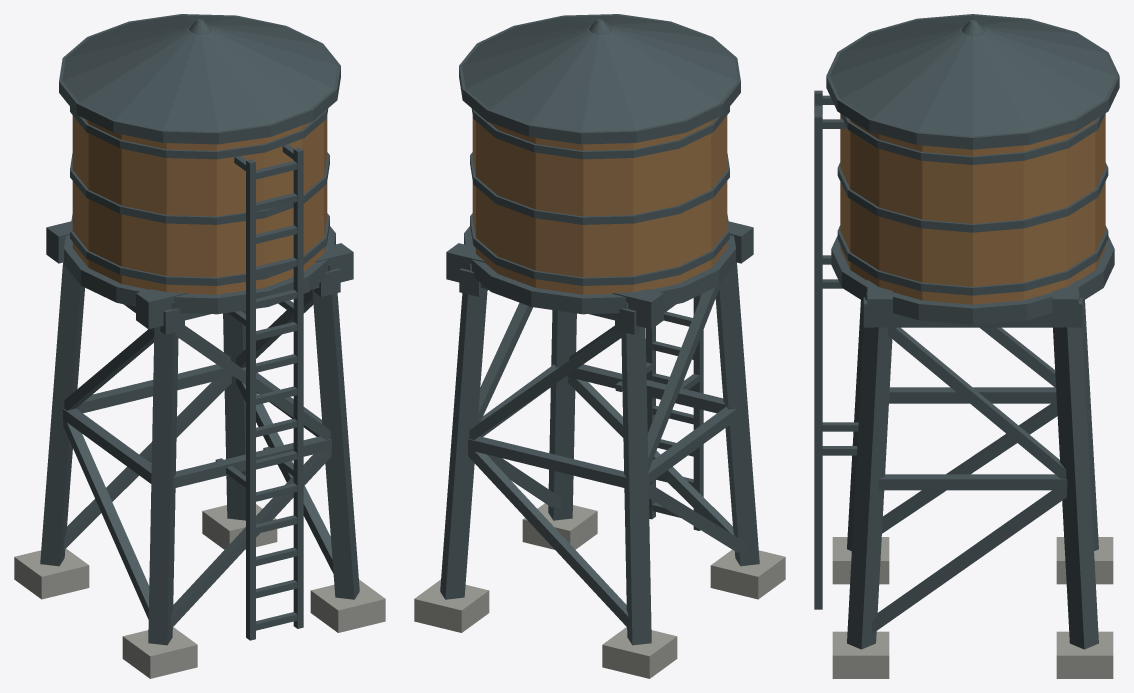
File: NEW_RECOVERY_116_LOD2.glb
The picture shows the model from 3 angles, left to right: view 1: azimuth 30°, elevation 25°; view 2: azimuth 150°, elevation 25°; view 3: azimuth 270°, elevation 25°; orthographic projection. The views are drawn at different scales.
Visible parts, largest first — view 1: WaterTowerSolid; view 2: WaterTowerSolid; view 3: WaterTowerSolid.
Boxes of the visible parts, x1,y1,x2,y2 form: WaterTowerSolid: (14,14,385,678); WaterTowerSolid: (414,14,785,678); WaterTowerSolid: (814,14,1119,678).
Bounding box in the file's own units: 2.28 × 5.13 × 2.37.
